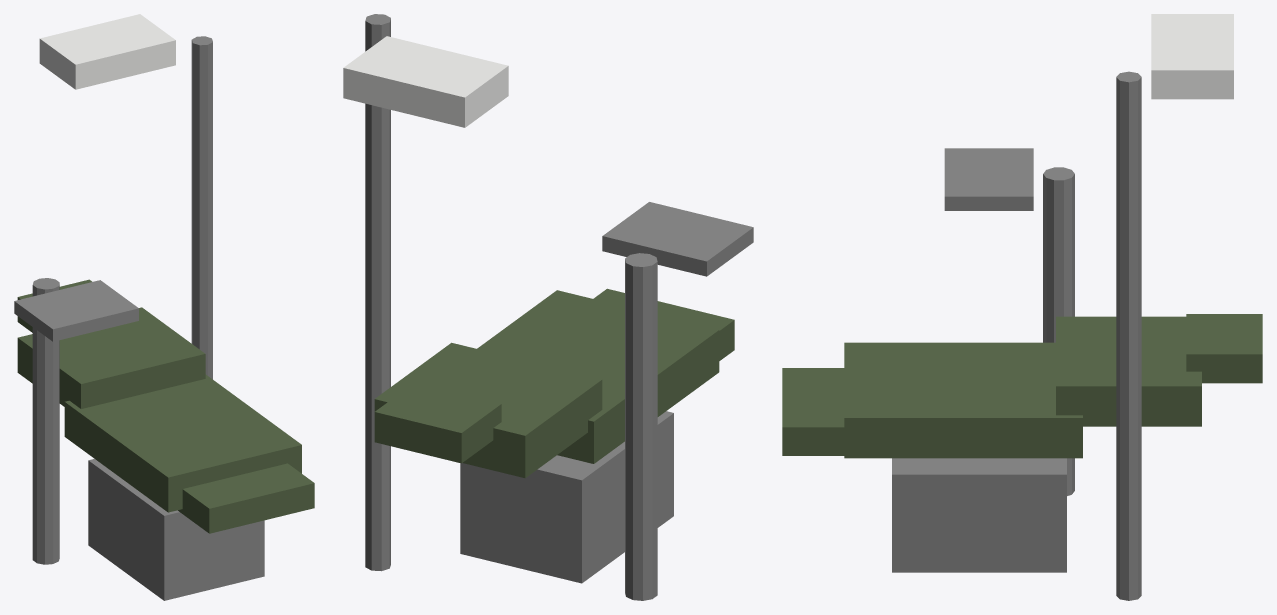
3 renders of one model, left to right at view 1: azimuth 30°, elevation 25°; view 2: azimuth 150°, elevation 25°; view 3: azimuth 270°, elevation 25°, orthographic. The views are drawn at different scales.
Visible parts, largest first — view 1: sillon_imaging; view 2: sillon_imaging; view 3: sillon_imaging.
Part boxes in pixels (x1,y1,x2,y2): sillon_imaging: [14, 14, 314, 600]; sillon_imaging: [343, 14, 753, 600]; sillon_imaging: [782, 14, 1262, 600].
Size of the model in its own units: 1 by 1.51 by 1.8.
